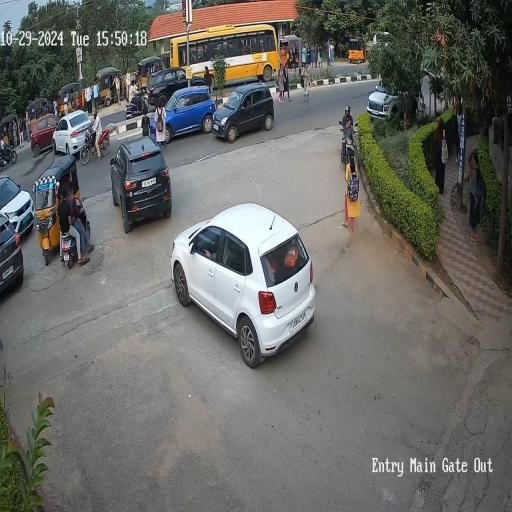helmet: (340, 97, 356, 137)
triple riding: (56, 178, 91, 240)
